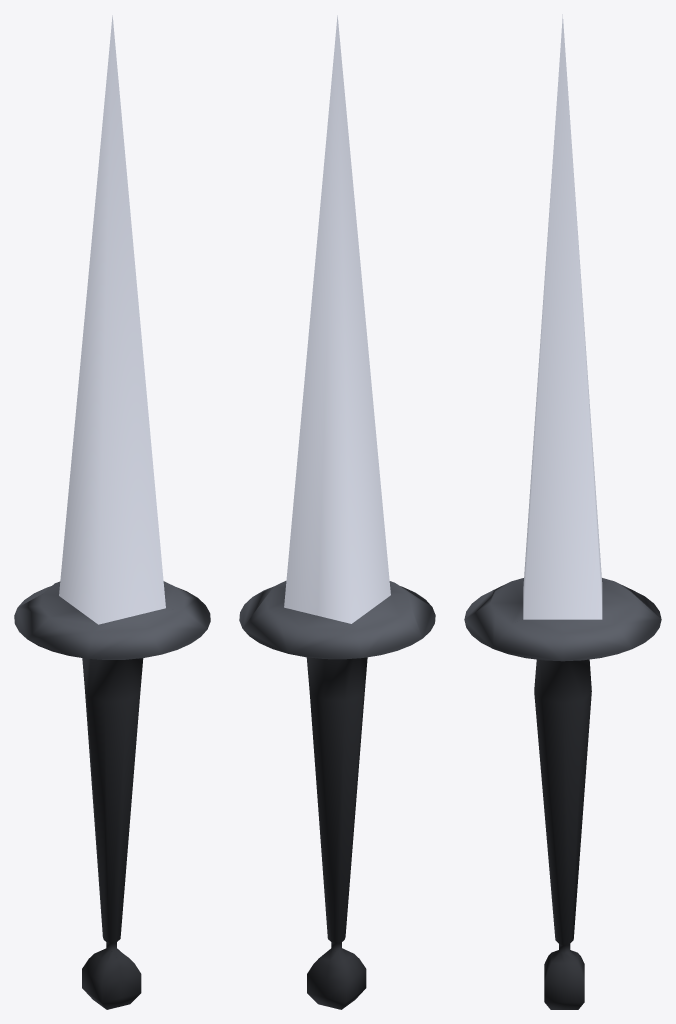
The model's file is Trip-Tip Dagger.fbx.
3 views of the same model, side by side, from view 1: azimuth 30°, elevation 25°; view 2: azimuth 150°, elevation 25°; view 3: azimuth 270°, elevation 25° (orthographic).
Visible parts, largest first — view 1: Tri-Tip Dagger; view 2: Tri-Tip Dagger; view 3: Tri-Tip Dagger.
Boxes of the visible parts, <box> form: Tri-Tip Dagger: <box>14,15,210,1009</box>; Tri-Tip Dagger: <box>239,15,435,1009</box>; Tri-Tip Dagger: <box>464,14,661,1009</box>.
Size of the model in its own units: 0.7989 by 4.44 by 0.7989.
Materials: 1 (1 with a texture image).
